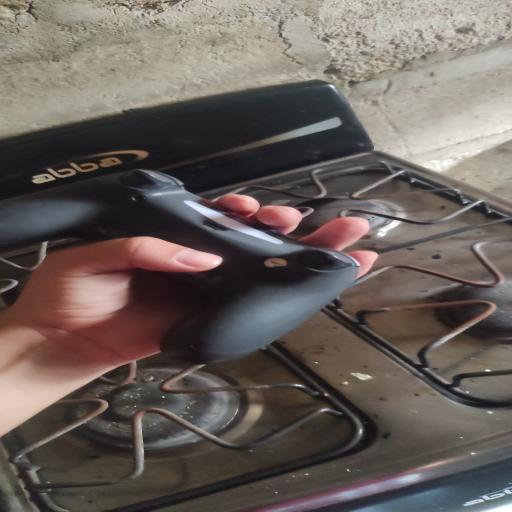ControlPlay4: (0, 169, 359, 364)
